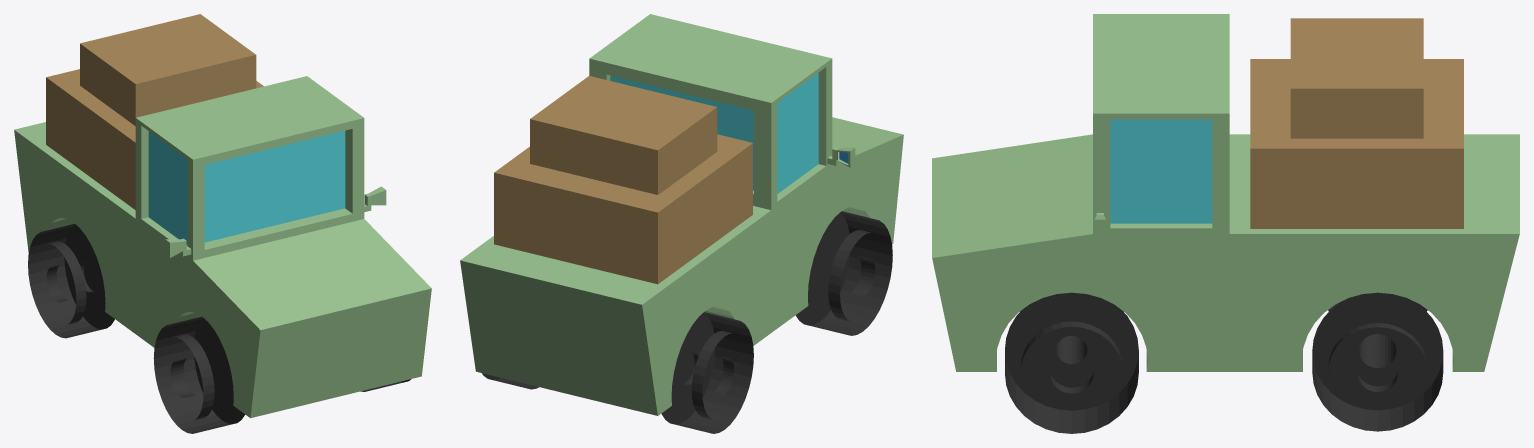
Rendered from gadi.glb.
3 renders of one model, left to right at view 1: azimuth 30°, elevation 25°; view 2: azimuth 150°, elevation 25°; view 3: azimuth 270°, elevation 25°, orthographic. The views are drawn at different scales.
Visible parts, largest first — view 1: Cube.001; view 2: Cube.001; view 3: Cube.001.
Part boxes in pixels (x1=…): Cube.001: x1=14, y1=14, x2=431, y2=433; Cube.001: x1=460, y1=14, x2=903, y2=433; Cube.001: x1=932, y1=14, x2=1519, y2=433.
Bounding box in the file's own units: 3.92 × 4.63 × 7.73.
